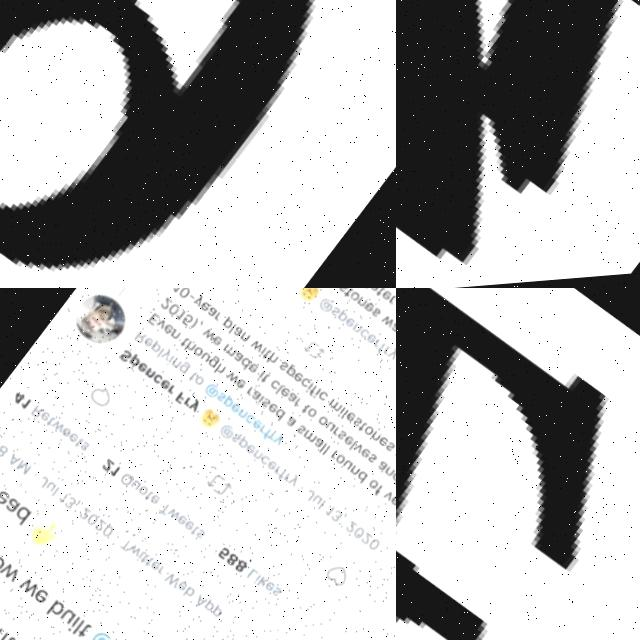0: (366, 543, 381, 558), (176, 288, 191, 303), (166, 304, 180, 320), (100, 526, 114, 541), (351, 532, 365, 546), (85, 513, 98, 528)
1: (18, 396, 32, 411), (107, 465, 120, 480), (57, 492, 69, 506), (174, 310, 186, 324), (323, 510, 334, 522), (171, 288, 182, 297), (216, 288, 226, 291)
2: (342, 526, 358, 542), (358, 536, 373, 553), (92, 519, 107, 535), (158, 298, 173, 314), (100, 460, 114, 477), (77, 508, 91, 523)
3: (62, 496, 78, 511), (328, 514, 343, 529)
4: (9, 390, 25, 407)
5: (178, 315, 194, 331), (216, 549, 230, 566)
8: (224, 555, 240, 572), (232, 563, 248, 580), (0, 442, 9, 458)
9: (0, 0, 396, 288)
E: (396, 288, 613, 580)
